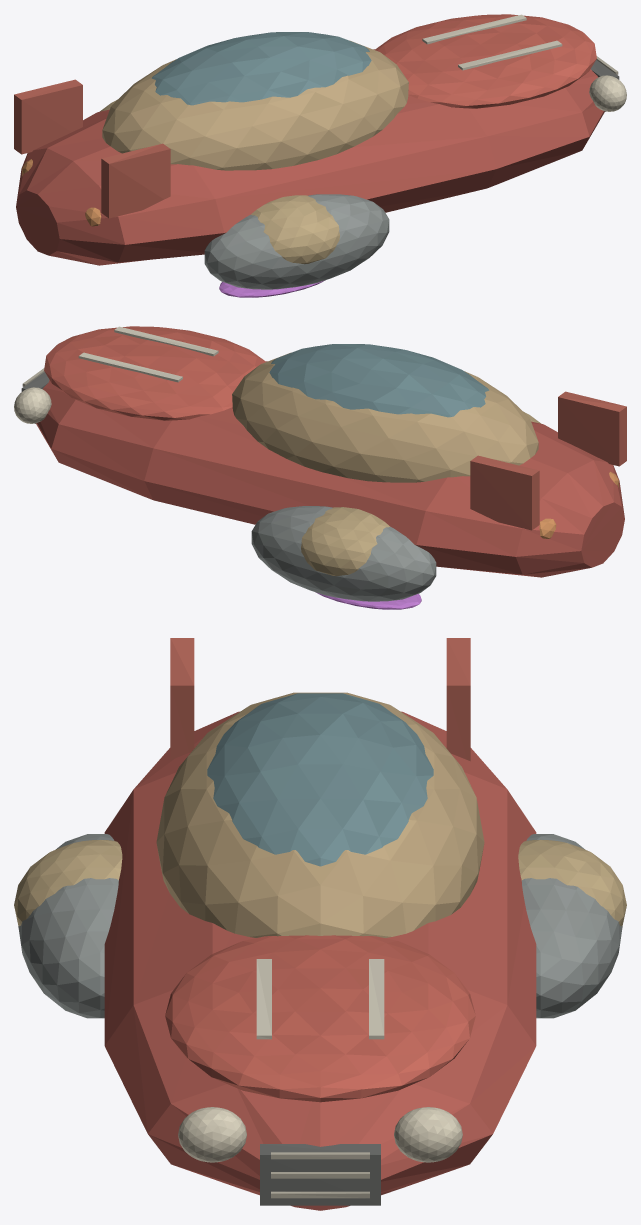
File: hovercar_red_violet.glb
3 renders of one model, top to bottom at view 1: azimuth 30°, elevation 25°; view 2: azimuth 150°, elevation 25°; view 3: azimuth 270°, elevation 25°, orthographic. The views are drawn at different scales.
Parts seen in each view (by area): view 1: car_body, cockpit_frame, front_hood, cockpit_glass, thruster_shell_-0.51, thruster_band_-0.51, tail_fin_-0.32, tail_fin_0.32, headlamp_-0.25, engine_glow_-0.51, hood_stripe_-0.13, hood_stripe_0.13; view 2: car_body, cockpit_frame, front_hood, cockpit_glass, thruster_shell_0.51, thruster_band_0.51, tail_fin_0.32, tail_fin_-0.32, headlamp_0.25, engine_glow_0.51, hood_stripe_0.13, hood_stripe_-0.13; view 3: car_body, front_hood, cockpit_frame, cockpit_glass, thruster_shell_0.51, thruster_shell_-0.51, front_grille, thruster_band_0.51, thruster_band_-0.51, headlamp_-0.25, headlamp_0.25, tail_fin_0.32 (+5 smaller).
Boxes of the visible parts, box(x1,y1,x2,y2) form: car_body: box(16, 49, 604, 265); cockpit_frame: box(102, 40, 408, 170); front_hood: box(375, 14, 596, 108); cockpit_glass: box(151, 32, 371, 105); thruster_shell_-0.51: box(204, 194, 389, 289); thruster_band_-0.51: box(251, 195, 339, 264); tail_fin_-0.32: box(101, 143, 170, 218); tail_fin_0.32: box(14, 79, 82, 154); headlamp_-0.25: box(589, 75, 626, 111); engine_glow_-0.51: box(219, 280, 325, 297); hood_stripe_-0.13: box(458, 40, 562, 70); hood_stripe_0.13: box(422, 14, 526, 44); car_body: box(36, 361, 624, 577); cockpit_frame: box(232, 352, 538, 482); front_hood: box(44, 326, 265, 420); cockpit_glass: box(269, 344, 489, 417); thruster_shell_0.51: box(251, 506, 436, 601); thruster_band_0.51: box(301, 507, 389, 576); tail_fin_0.32: box(470, 455, 539, 530); tail_fin_-0.32: box(558, 391, 626, 466); headlamp_0.25: box(14, 387, 51, 423); engine_glow_0.51: box(315, 592, 421, 609); hood_stripe_0.13: box(78, 352, 182, 382); hood_stripe_-0.13: box(114, 326, 218, 356); car_body: box(104, 711, 536, 1210); front_hood: box(165, 935, 475, 1102); cockpit_frame: box(156, 692, 484, 937); cockpit_glass: box(207, 693, 433, 866); thruster_shell_0.51: box(521, 834, 622, 1018); thruster_shell_-0.51: box(18, 834, 118, 1018); front_grille: box(260, 1144, 380, 1205); thruster_band_0.51: box(518, 839, 626, 926); thruster_band_-0.51: box(14, 839, 122, 926); headlamp_-0.25: box(178, 1107, 246, 1162); headlamp_0.25: box(394, 1107, 462, 1162); tail_fin_0.32: box(446, 638, 470, 761).
Bounding box in the file's own units: 2.39 × 0.71 × 1.42.
